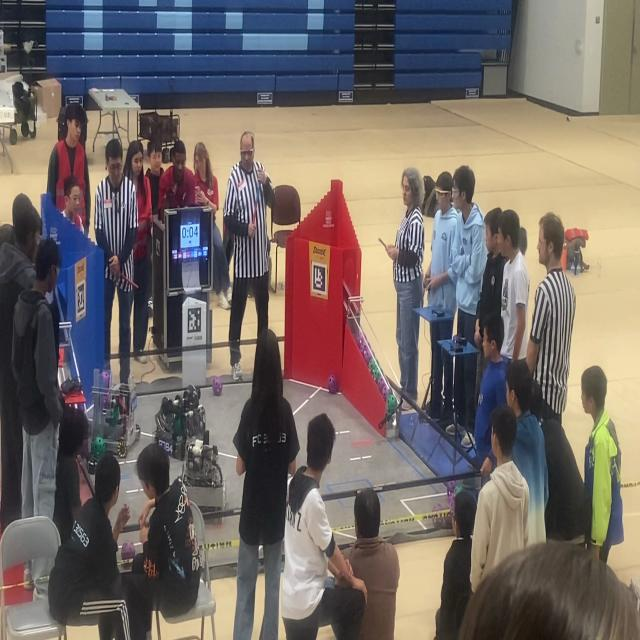artifact_green: (91, 437, 105, 459), (369, 358, 381, 382), (386, 393, 398, 415), (455, 482, 464, 494)
artifact_purple: (100, 371, 110, 404), (387, 390, 398, 415), (370, 358, 381, 383), (434, 513, 452, 527), (121, 542, 135, 560), (378, 376, 388, 400), (212, 377, 223, 396), (361, 344, 372, 363), (328, 375, 338, 394), (356, 331, 366, 350), (81, 439, 89, 459), (101, 371, 110, 388), (433, 515, 444, 527), (448, 494, 455, 511), (358, 340, 367, 353), (447, 481, 456, 494), (455, 482, 464, 494)
